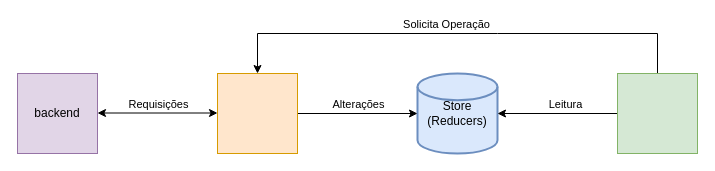
This 715x171 diagram has some shape labels left out. Each missing label, with the box of its shape:
Actions: (216, 72, 298, 154)
Visual interface: (616, 72, 698, 154)
